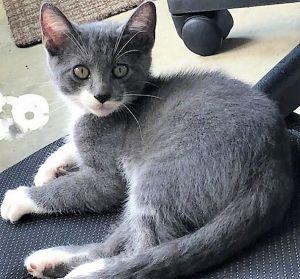rblue: (37, 1, 160, 122)
